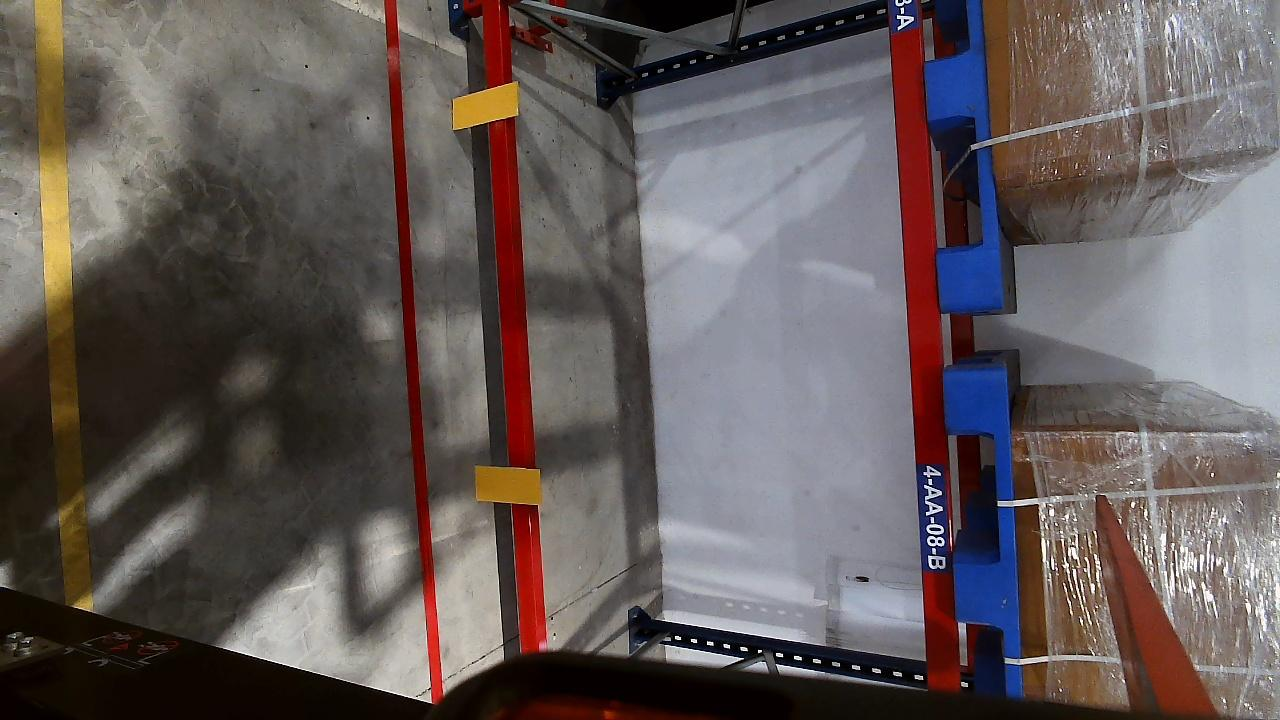h_rack: (479, 7, 547, 652), (894, 0, 957, 691)
orange_strip: (451, 82, 520, 128), (474, 466, 540, 505)
red_line: (372, 0, 453, 687)
small_pallet: (915, 1, 1008, 307), (944, 388, 1025, 691)
yellow_line: (26, 0, 98, 603)
